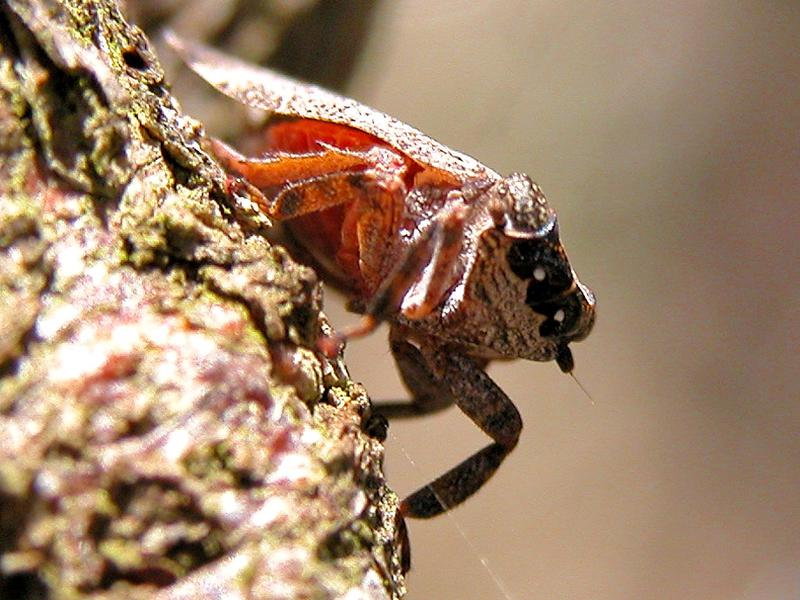Brown_plant_leafhopper: (157, 24, 621, 468)
